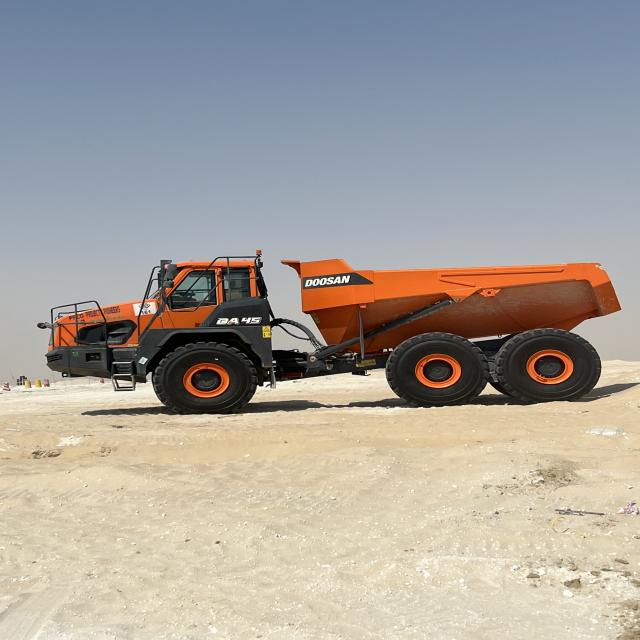Dump Truck: (33, 245, 622, 414)
